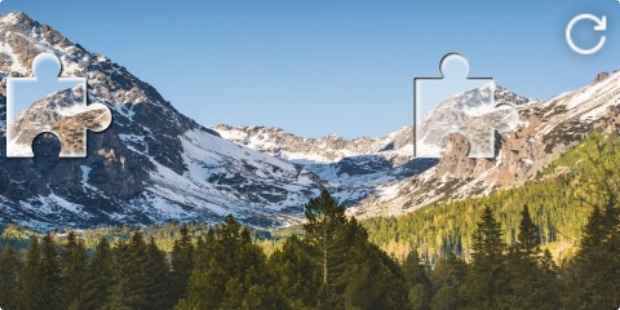target: (414, 52, 520, 158)
